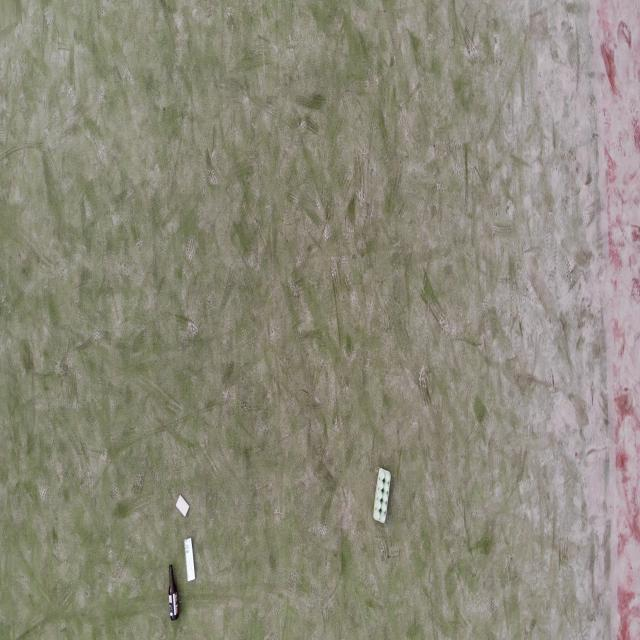rubbish: (372, 465, 392, 525), (167, 561, 180, 619), (184, 536, 196, 581), (176, 494, 191, 518)
